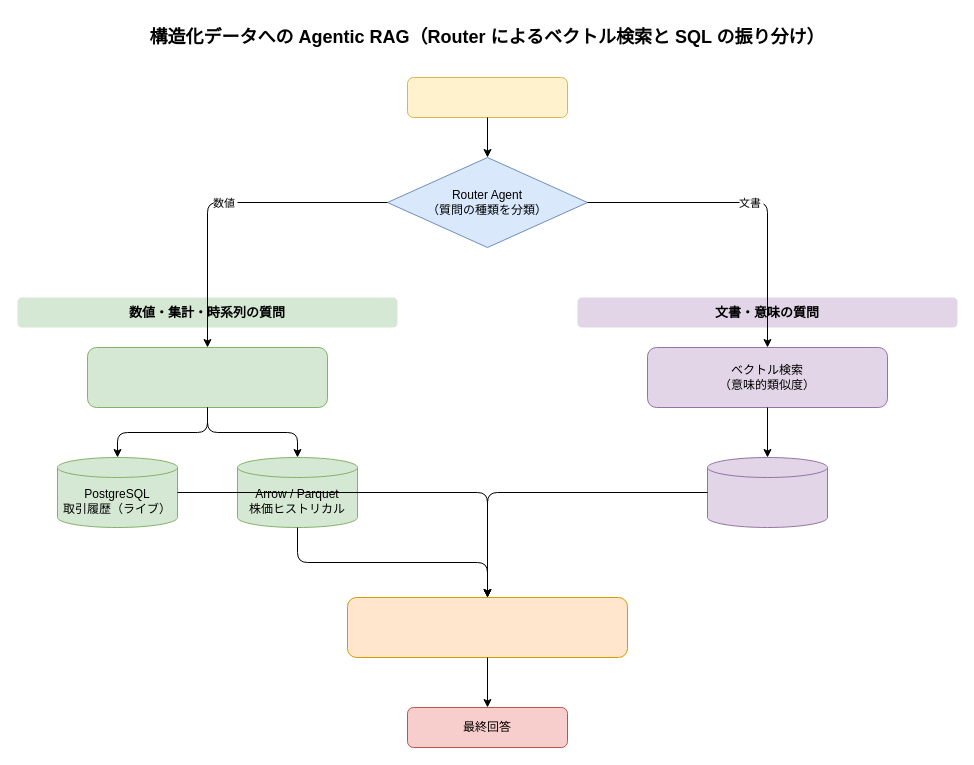
Some shapes in this 974 by 765 pixel diagram are drawn without their labels. Here are the shapes that lost their labels. From the top down, the centre of each, then its label:
At (x=487, y=97): "ユーザーの質問".
At (x=207, y=377): "Text-to-SQL / DuckDB （エージェントが SQL を生成・実行）".
At (x=767, y=492): "ベクトルストア ニュース・レポート".
At (x=487, y=627): "結果の統合・回答生成 （計算はクエリエンジン、解釈は LLM）".
